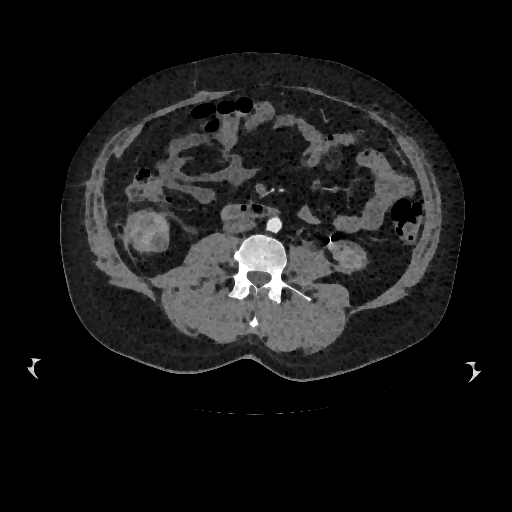Lesion: (146, 233, 170, 254)
